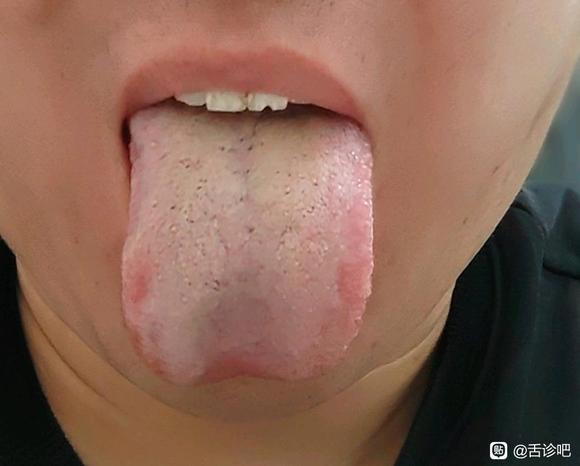huangtaishe: (121, 101, 373, 382)
